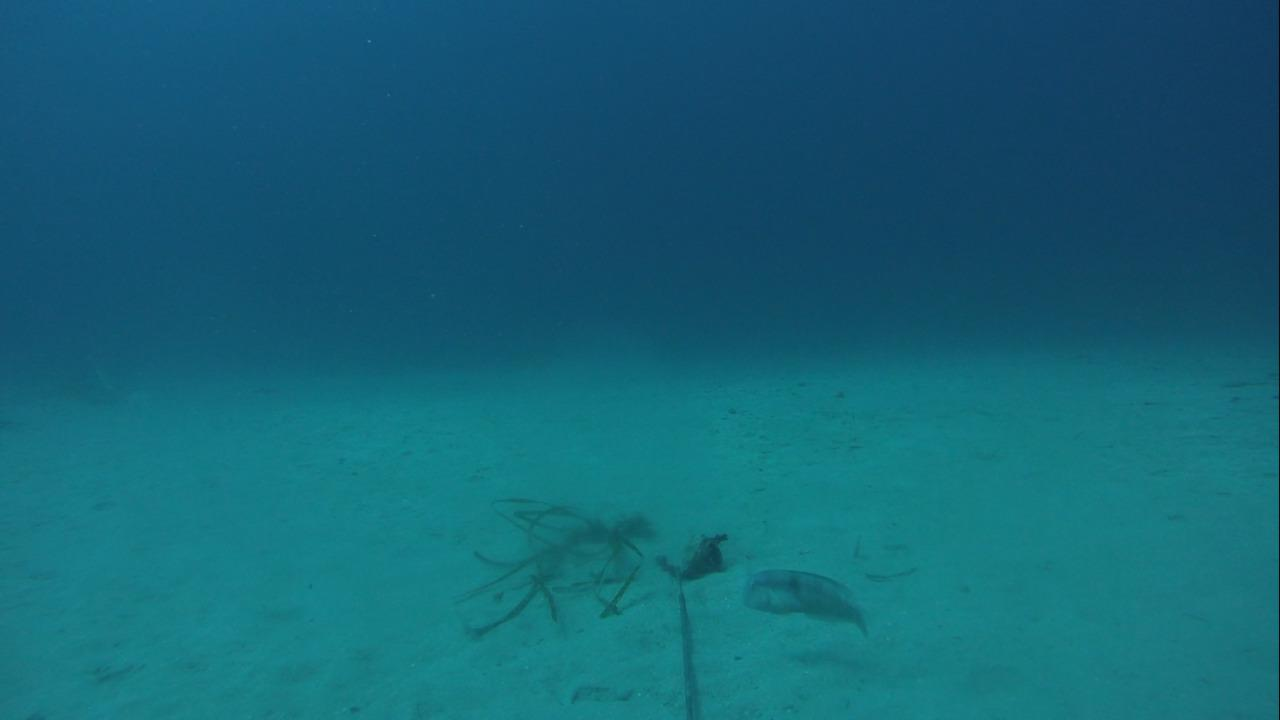raor: (734, 564, 878, 636)
